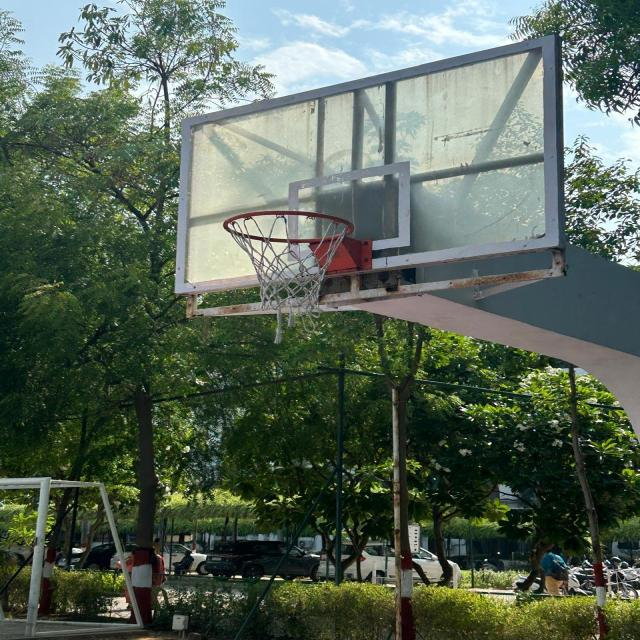hoop: (219, 201, 379, 343)
